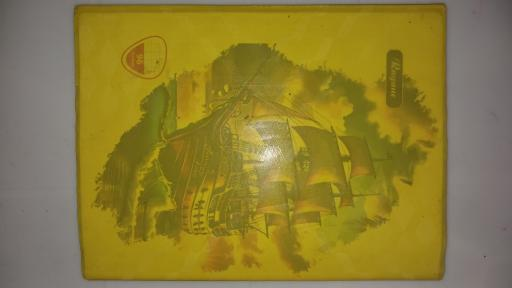notebook: (79, 3, 448, 277)
